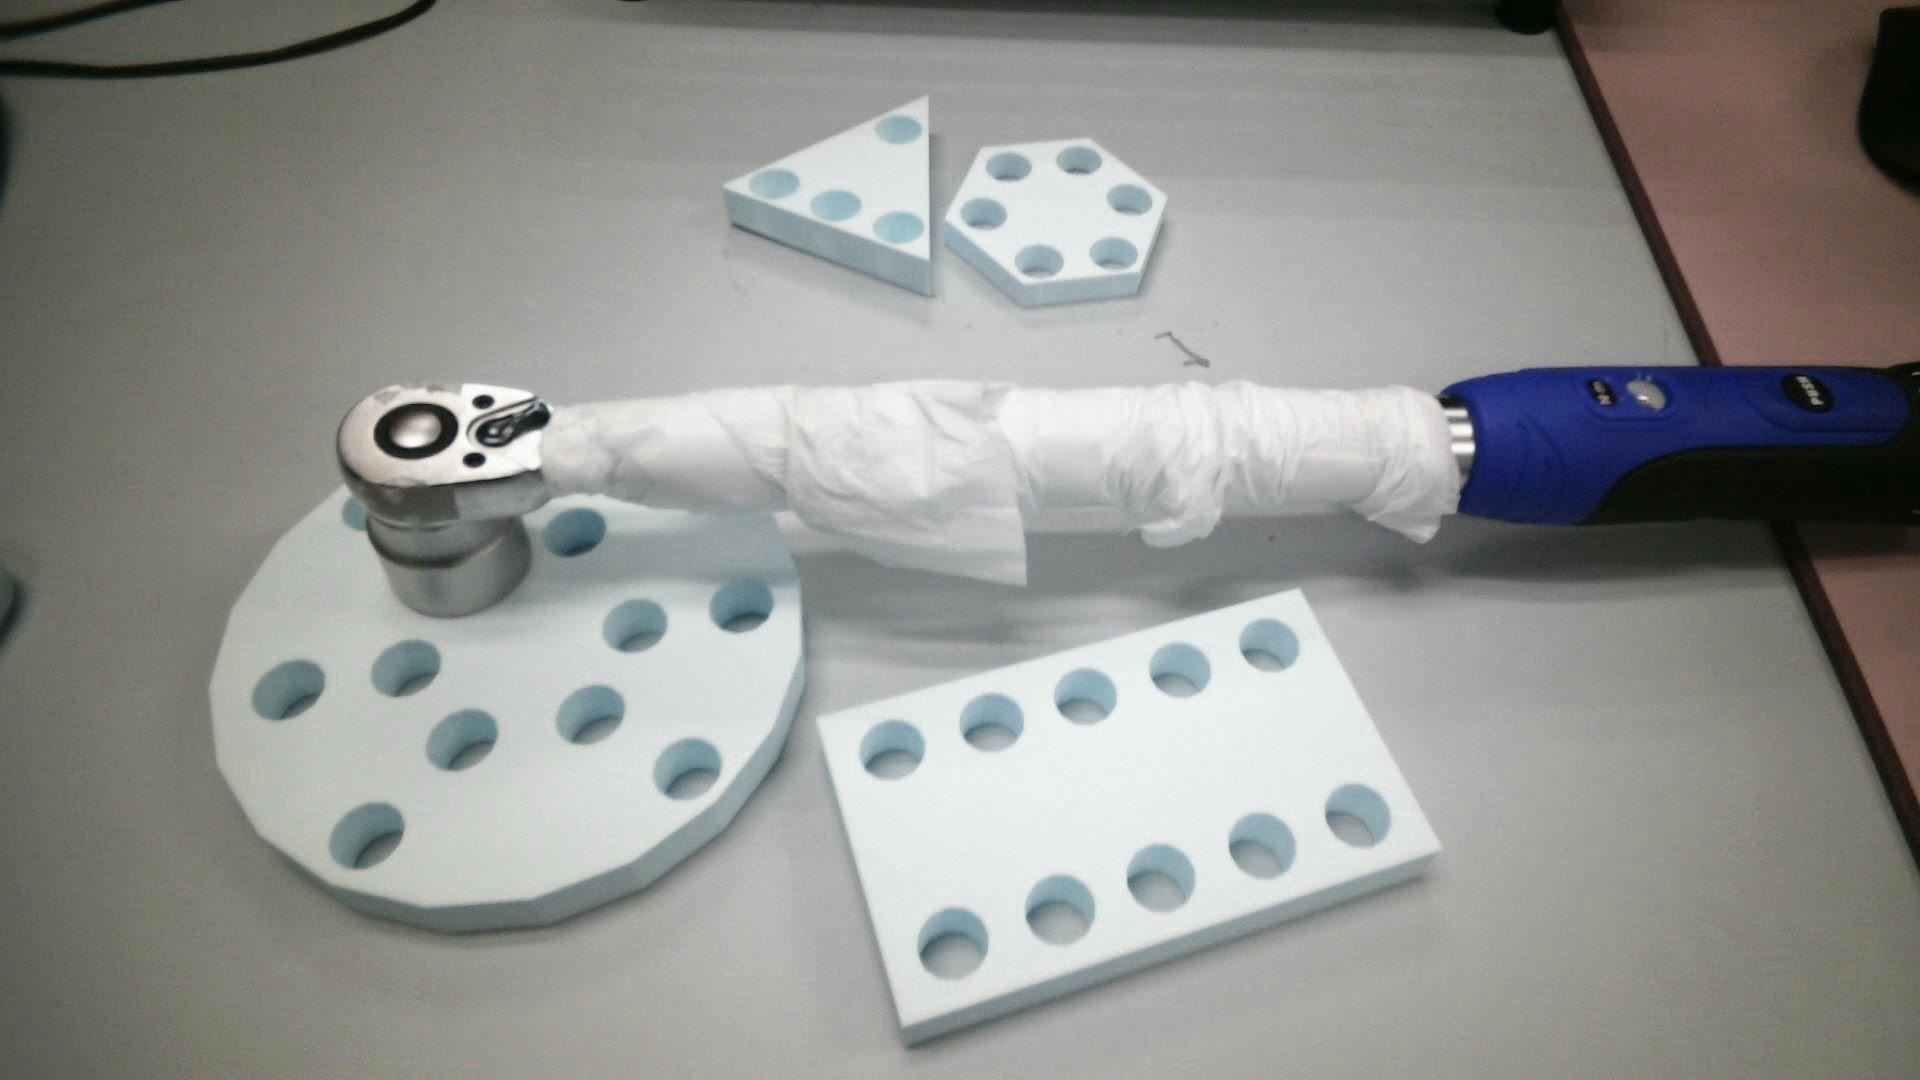hole: (915, 907, 990, 981), (1022, 874, 1097, 947), (328, 803, 406, 869), (1127, 844, 1197, 915), (252, 658, 327, 723), (1324, 783, 1393, 851), (651, 737, 723, 802), (1229, 814, 1298, 880), (425, 709, 497, 771), (554, 684, 625, 745), (368, 640, 440, 698), (858, 720, 927, 781), (959, 692, 1025, 754), (1054, 667, 1120, 727), (1149, 641, 1215, 700), (708, 578, 775, 636), (601, 597, 669, 654), (1240, 617, 1302, 675), (541, 506, 608, 558), (1088, 235, 1139, 270), (1014, 244, 1064, 280), (810, 189, 864, 222), (872, 211, 924, 244), (748, 170, 800, 200), (959, 198, 1007, 229), (1106, 185, 1154, 216), (874, 115, 922, 144), (986, 153, 1033, 182), (1058, 146, 1102, 175), (343, 491, 372, 534)
obj: (818, 589, 1444, 1048), (208, 477, 806, 935), (719, 96, 940, 294), (942, 136, 1168, 309)
wrench: (373, 404, 459, 460)
